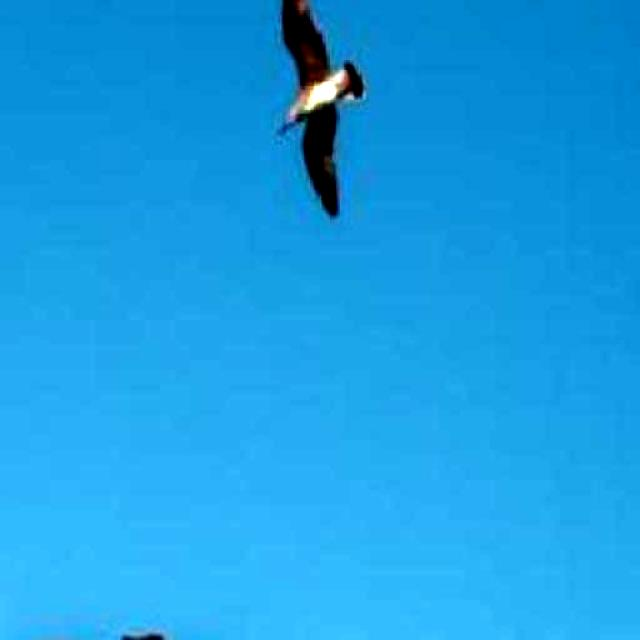airplane: (281, 0, 365, 222)
